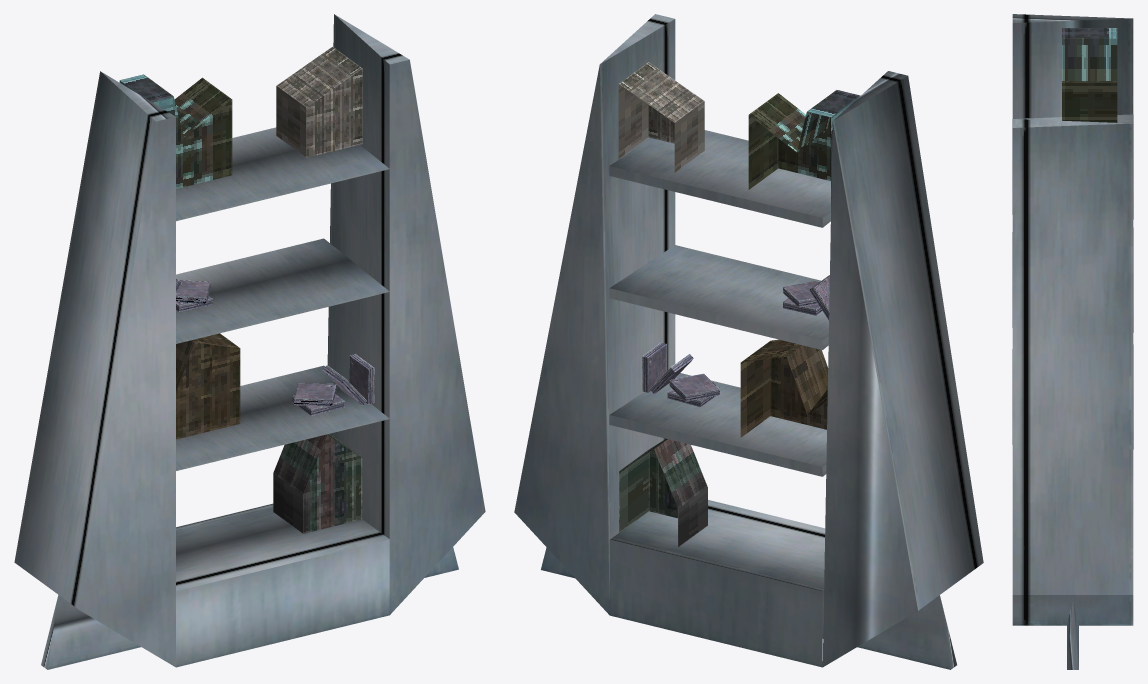
File: frn_all_tech_bookcase_s01_l1.fbx
3 renders of one model, left to right at view 1: azimuth 30°, elevation 25°; view 2: azimuth 150°, elevation 25°; view 3: azimuth 270°, elevation 25°, orthographic. The views are drawn at different scales.
Parts seen in each view (by area): view 1: mesh_node; view 2: mesh_node; view 3: mesh_node.
Part boxes in pixels (bbox=[...]): mesh_node: bbox=[14, 14, 485, 669]; mesh_node: bbox=[514, 14, 983, 669]; mesh_node: bbox=[1012, 14, 1133, 669].
Bounding box in the file's own units: 1.4 × 1.8 × 0.3909.
